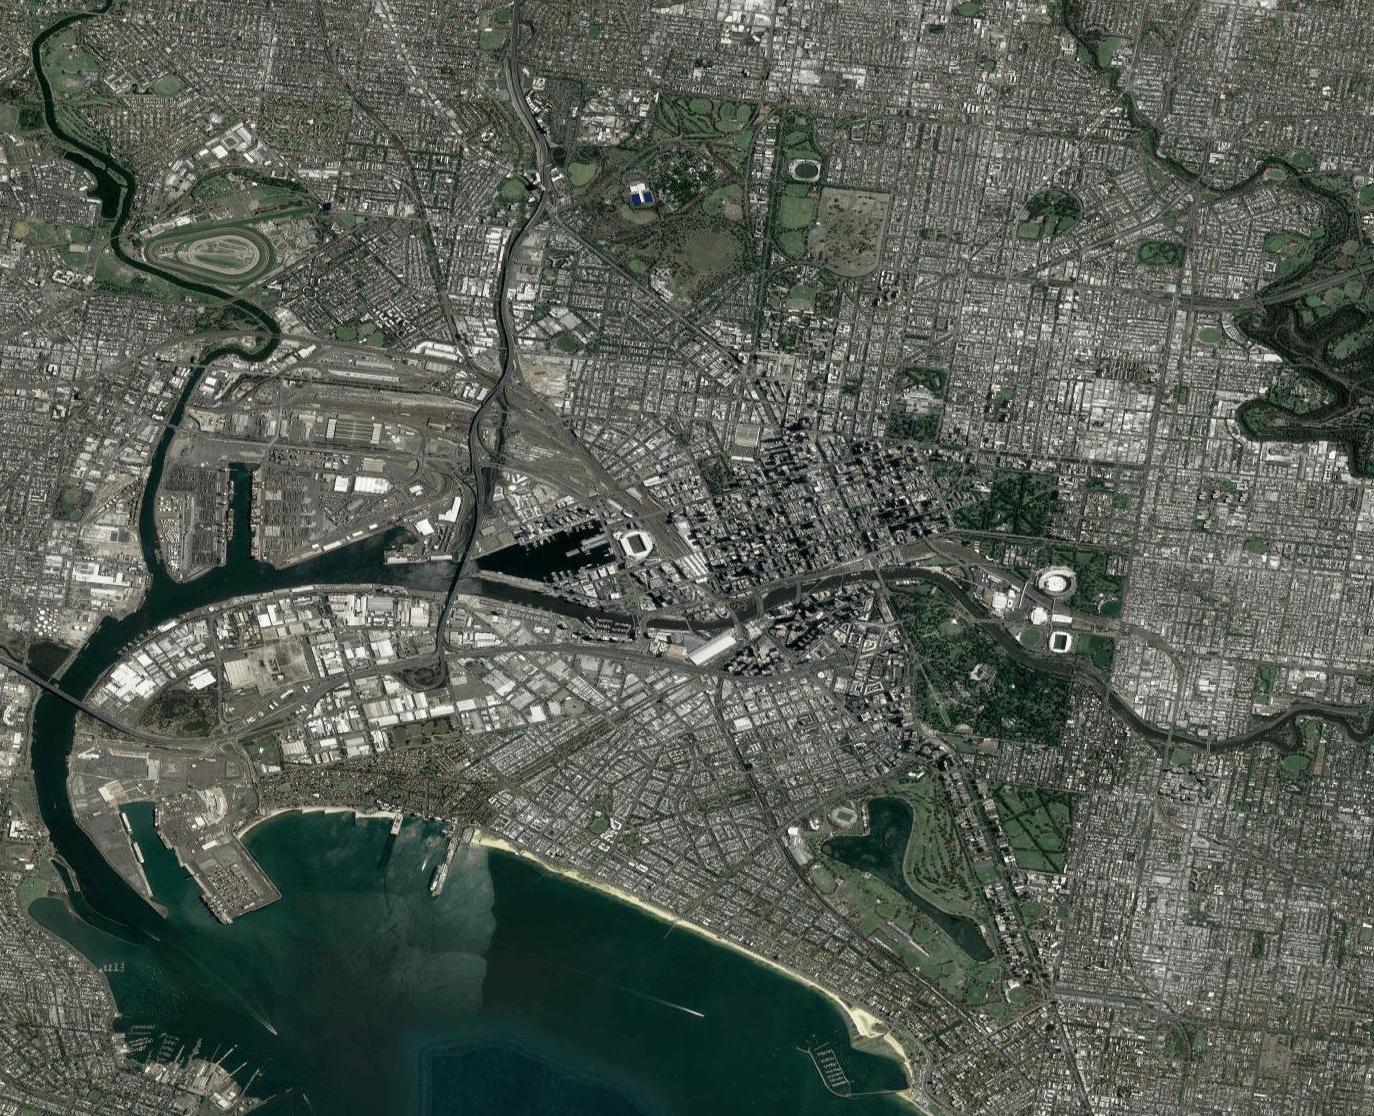bridge: (42, 680, 87, 709), (451, 559, 474, 591), (221, 289, 246, 305), (974, 612, 998, 627), (262, 327, 286, 343), (752, 594, 767, 619), (190, 359, 212, 374), (873, 567, 886, 586), (725, 606, 737, 625), (797, 583, 805, 602), (165, 421, 178, 430)
harbor: (101, 793, 268, 926), (371, 810, 483, 911), (791, 1017, 910, 1110)
industrial: (335, 660, 568, 766)
motorway: (41, 679, 112, 719), (505, 196, 546, 260), (508, 1, 528, 120), (310, 663, 378, 698), (247, 698, 308, 735), (106, 716, 171, 749), (489, 336, 516, 399), (381, 650, 449, 674), (450, 640, 527, 660), (530, 635, 607, 656), (533, 118, 553, 194), (494, 261, 515, 335), (170, 729, 244, 748), (467, 397, 488, 463), (433, 596, 458, 647), (454, 541, 479, 592), (469, 463, 486, 538), (1, 650, 38, 680)
train_station: (672, 550, 713, 584)
